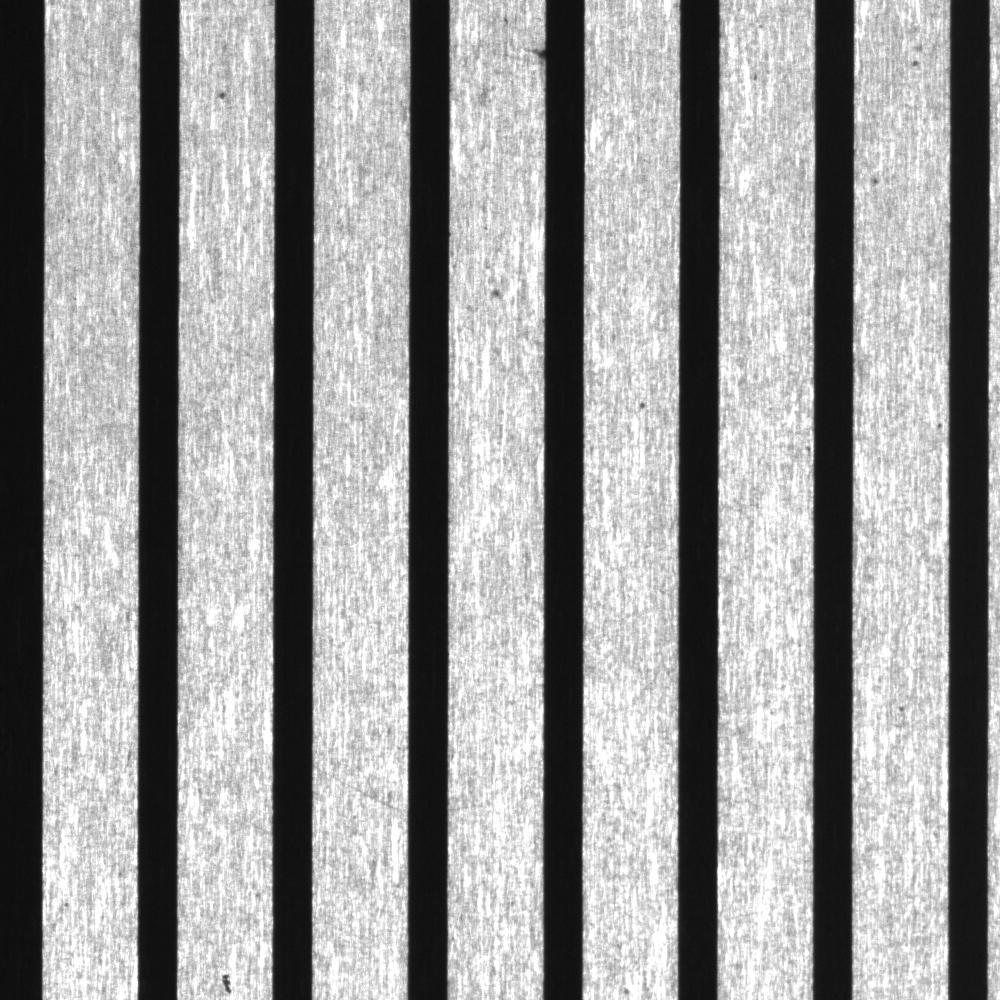Etching: (206, 952, 252, 1000), (507, 37, 547, 72), (484, 271, 510, 308)
Pinhole: (203, 75, 249, 118), (886, 688, 922, 727), (899, 43, 931, 83), (629, 389, 662, 424), (861, 163, 889, 194)
Scar: (313, 749, 408, 820)
